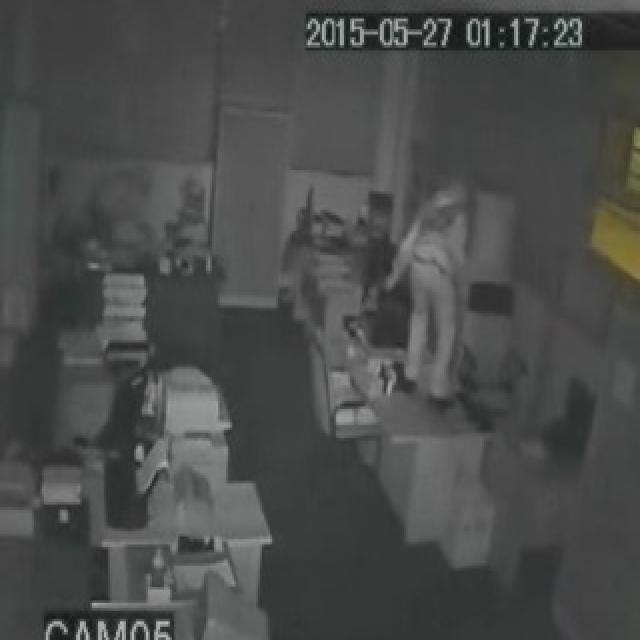thief: (415, 168, 475, 339)
